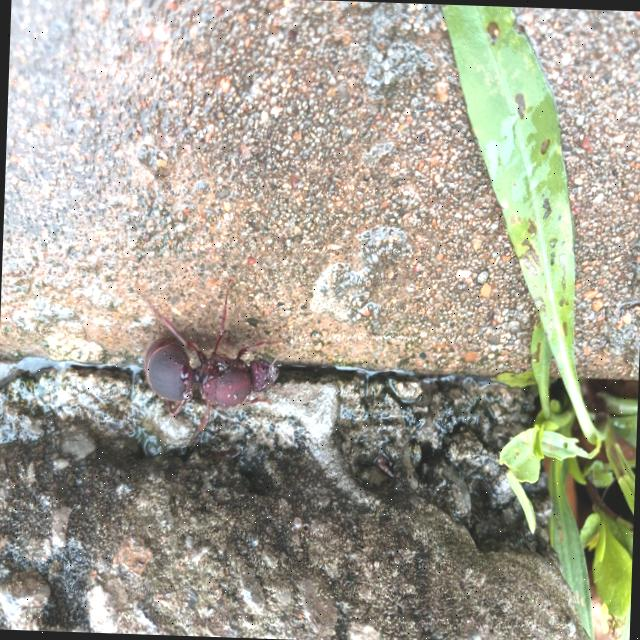Alive-Female-Dealate: (128, 274, 300, 451)
